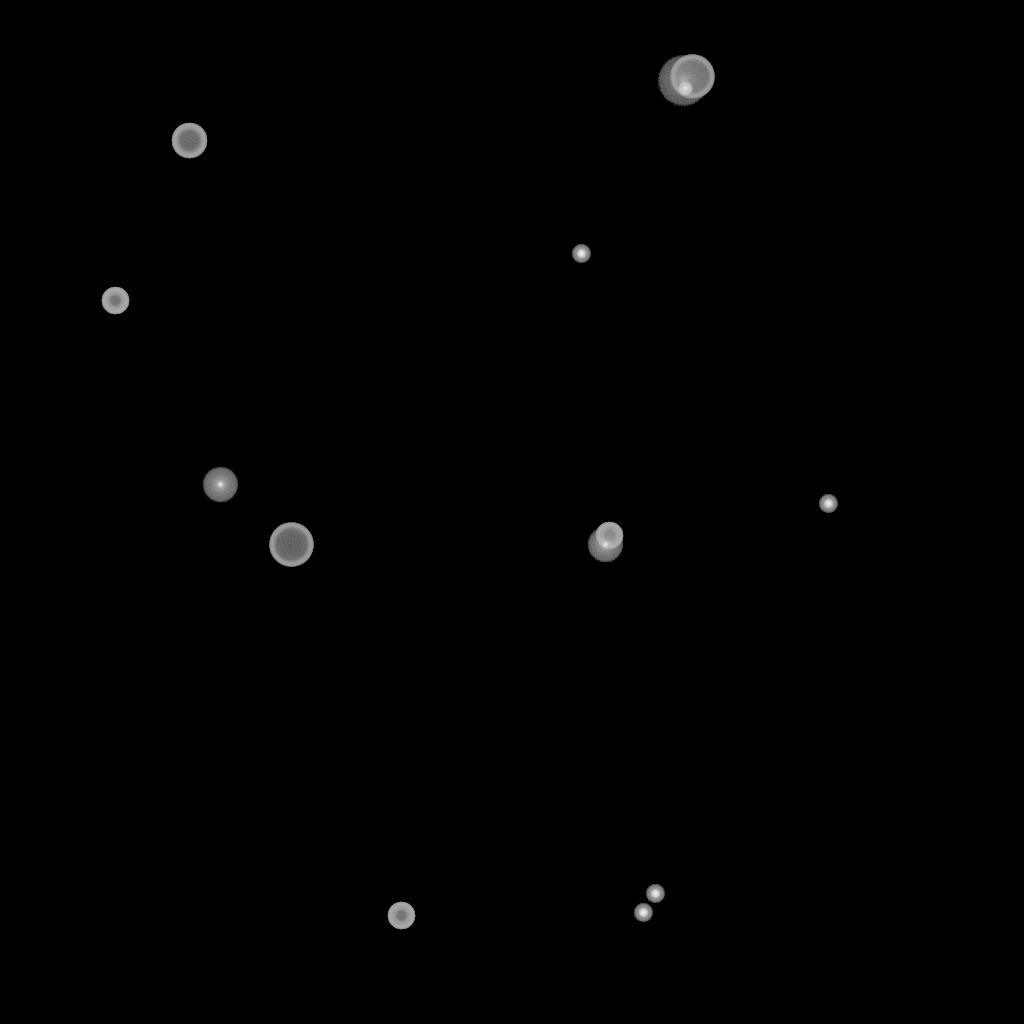depth:-20: (572, 245, 590, 263), (646, 885, 664, 903), (819, 495, 837, 513), (634, 904, 652, 922)
depth:-30: (678, 82, 692, 96)
depth:-50: (387, 902, 415, 930), (101, 287, 129, 315), (595, 522, 623, 550)
depth:-60: (171, 123, 207, 159)
depth:-70: (670, 55, 714, 99), (269, 523, 313, 567)
depth:0: (587, 527, 623, 563), (202, 467, 238, 503)
depth:20: (657, 56, 709, 106)
